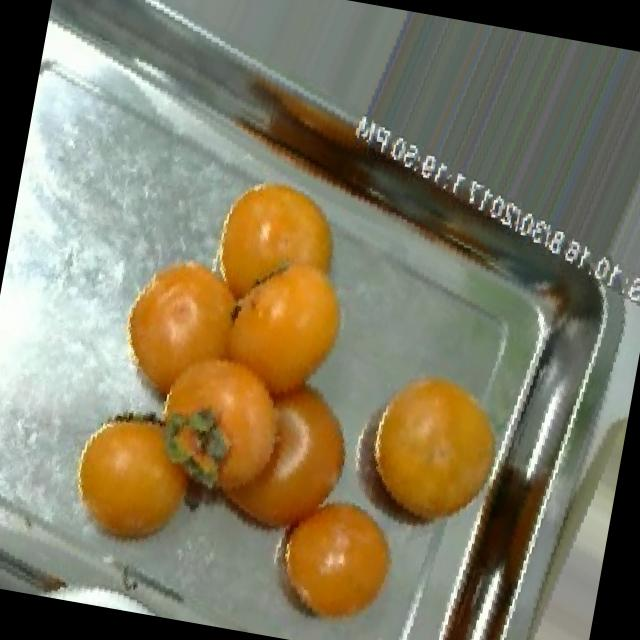Fruit: (89, 225, 285, 461), (333, 344, 522, 569), (184, 148, 376, 359), (46, 380, 228, 580), (247, 466, 424, 640)
